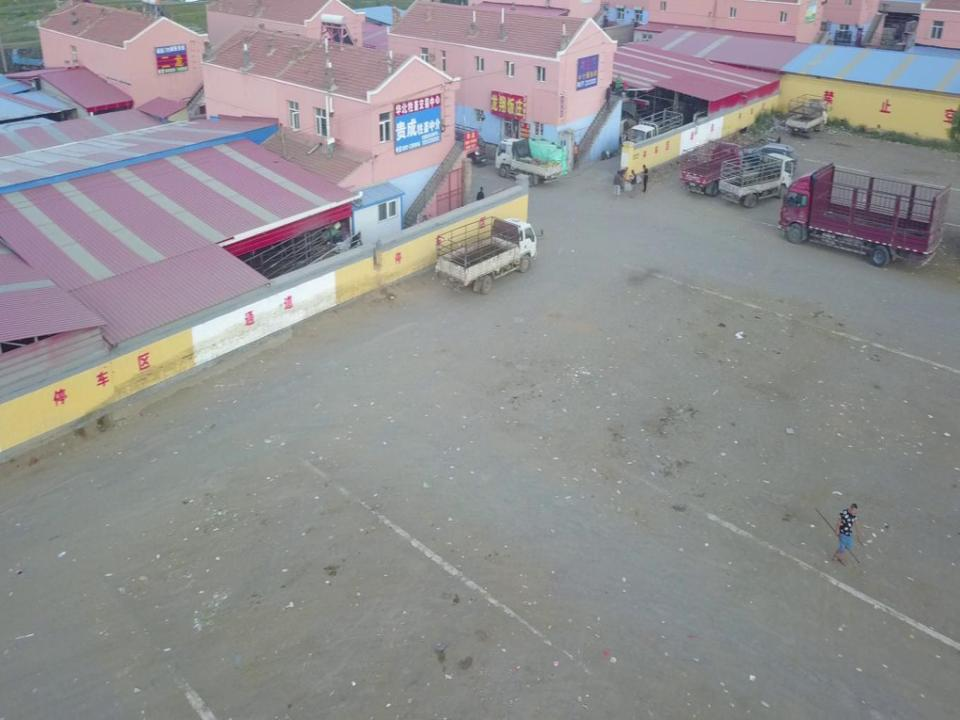truck: (780, 160, 950, 272), (434, 215, 539, 292), (719, 150, 794, 214), (680, 139, 745, 205), (493, 140, 565, 184), (627, 111, 685, 157), (786, 94, 832, 136), (434, 124, 481, 160)
